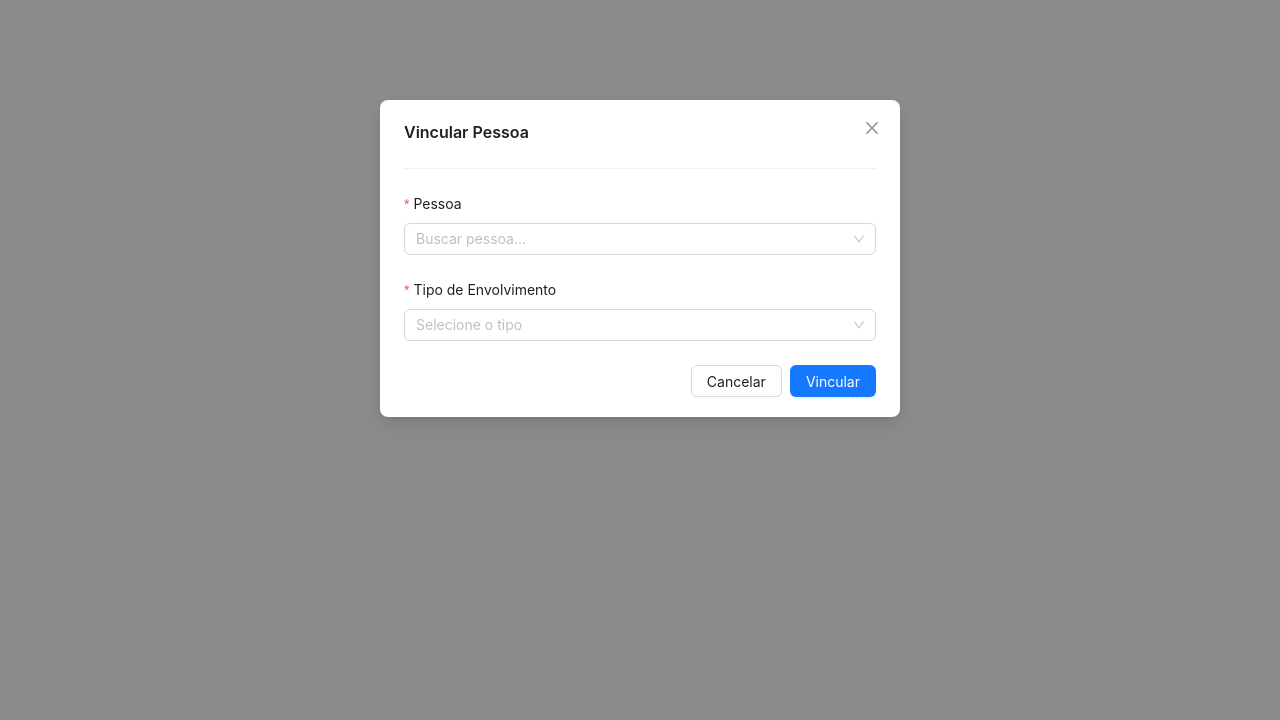
LinkInvolvementModal › abre o modal de criação ao clicar no botão de atalho
Click the dropdown labelled "Pessoa".
click(631, 239)  # box [416,224,846,254]
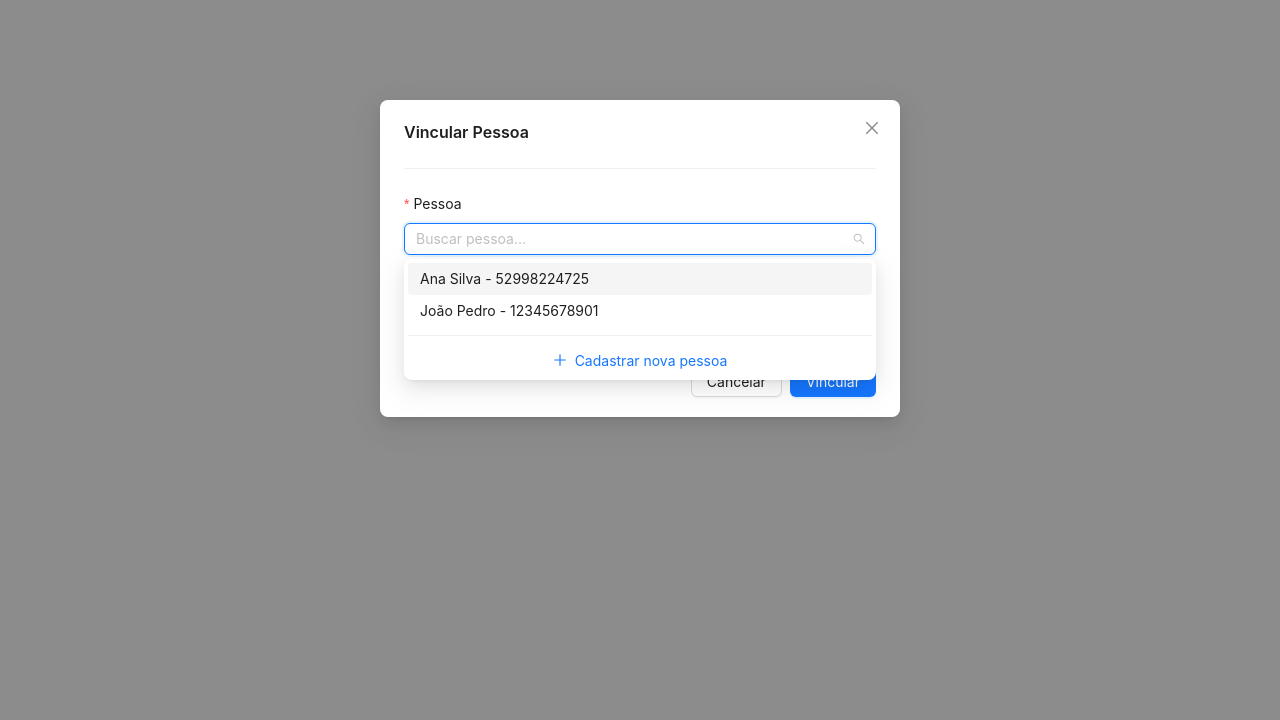
Click the button "Cadastrar nova pessoa".
click(640, 360)  # box [408,344,872,376]
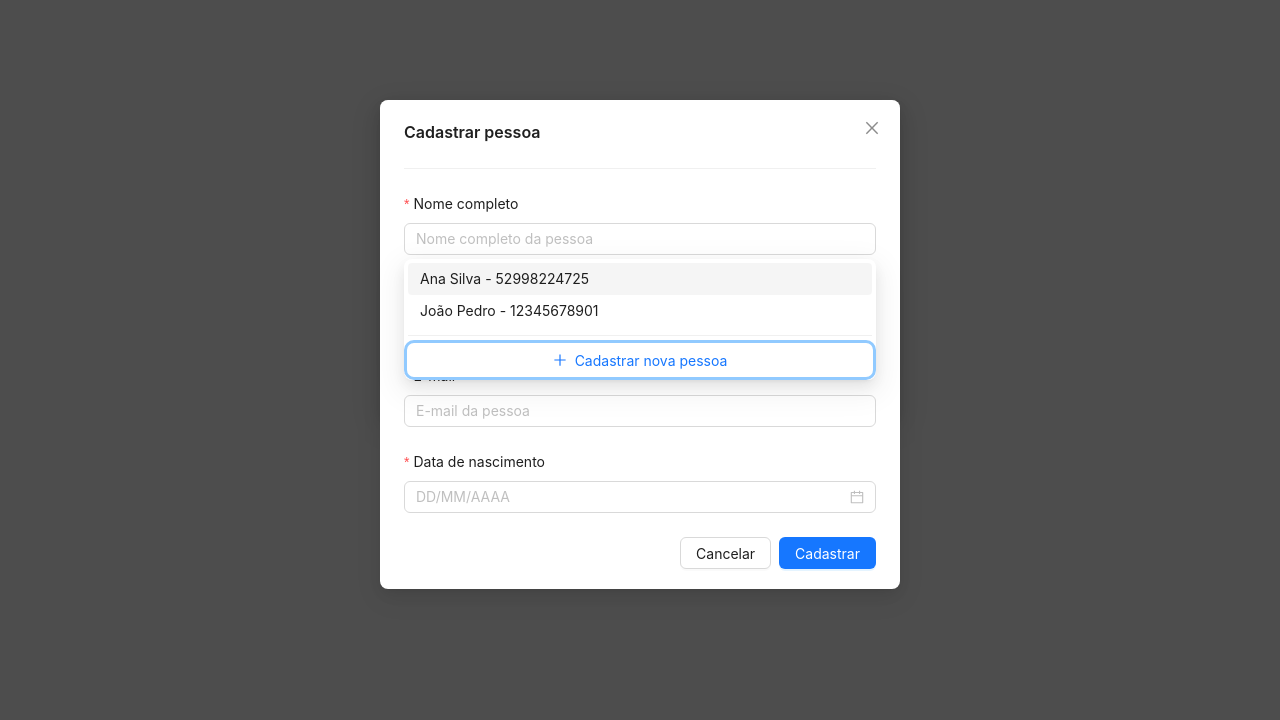
Result: the text "Cadastrar pessoa" is shown at [404,122,540,142]
